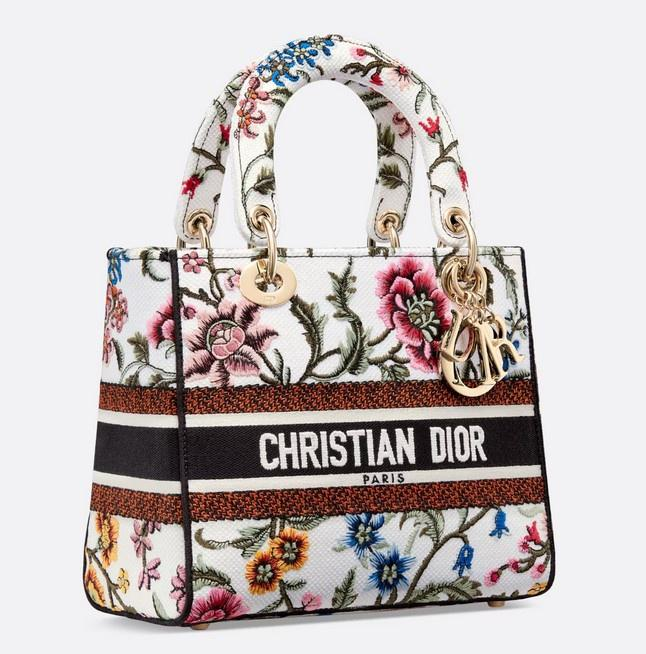DIOR: (255, 411, 494, 479)
